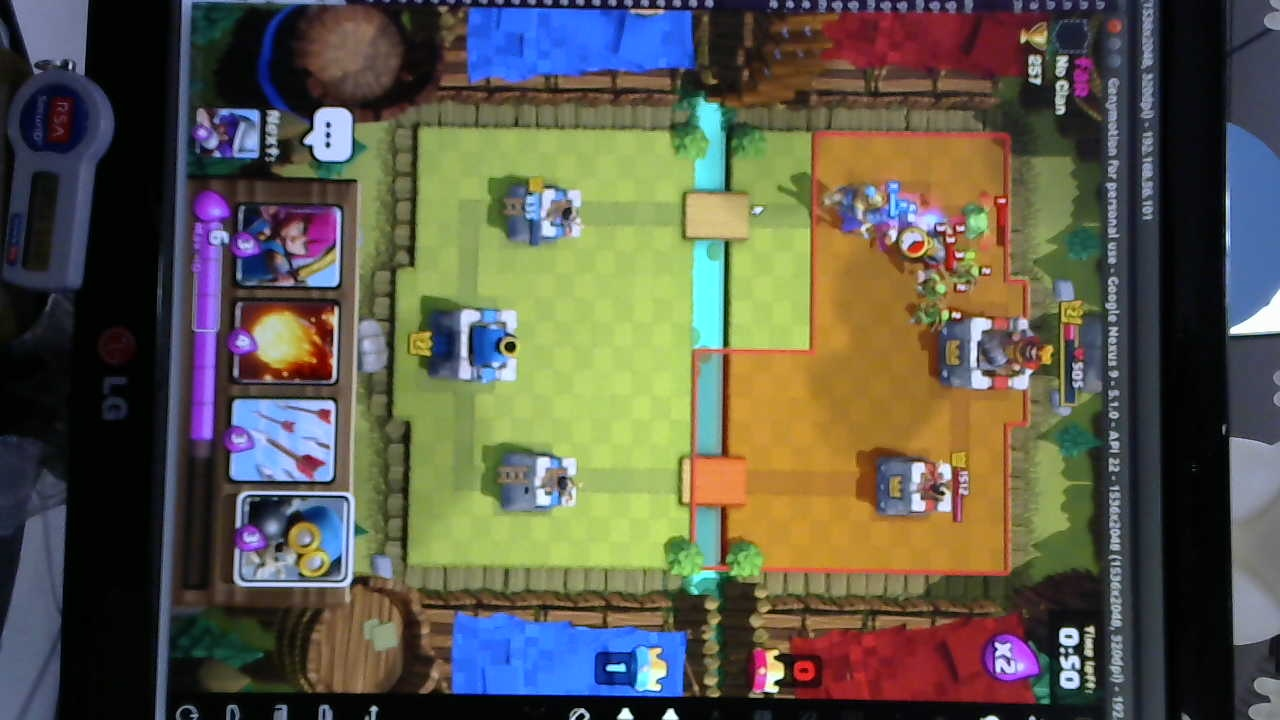arena: (503, 178, 587, 246), (494, 450, 582, 514)
dragon: (959, 197, 998, 253)
earena: (872, 453, 954, 519)
eking: (935, 311, 1047, 393)
king: (427, 305, 525, 386)
knight: (917, 217, 958, 275)
prince: (820, 179, 886, 229)
speargoblins: (908, 260, 984, 332)
